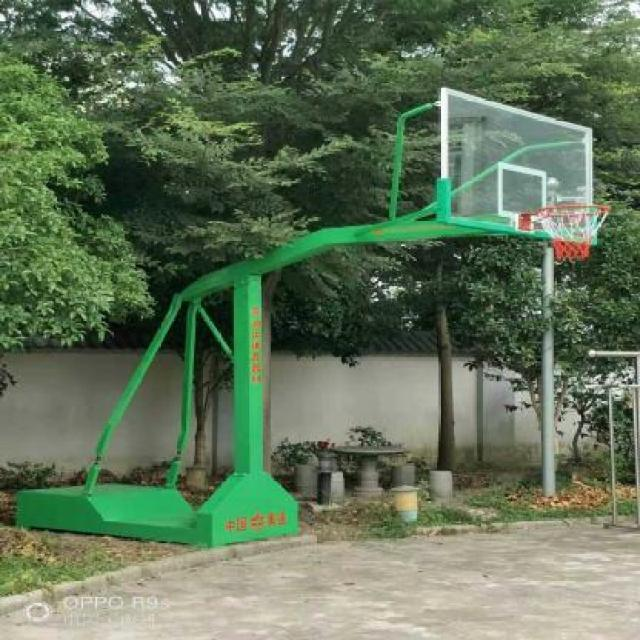rim: (535, 202, 611, 262)
